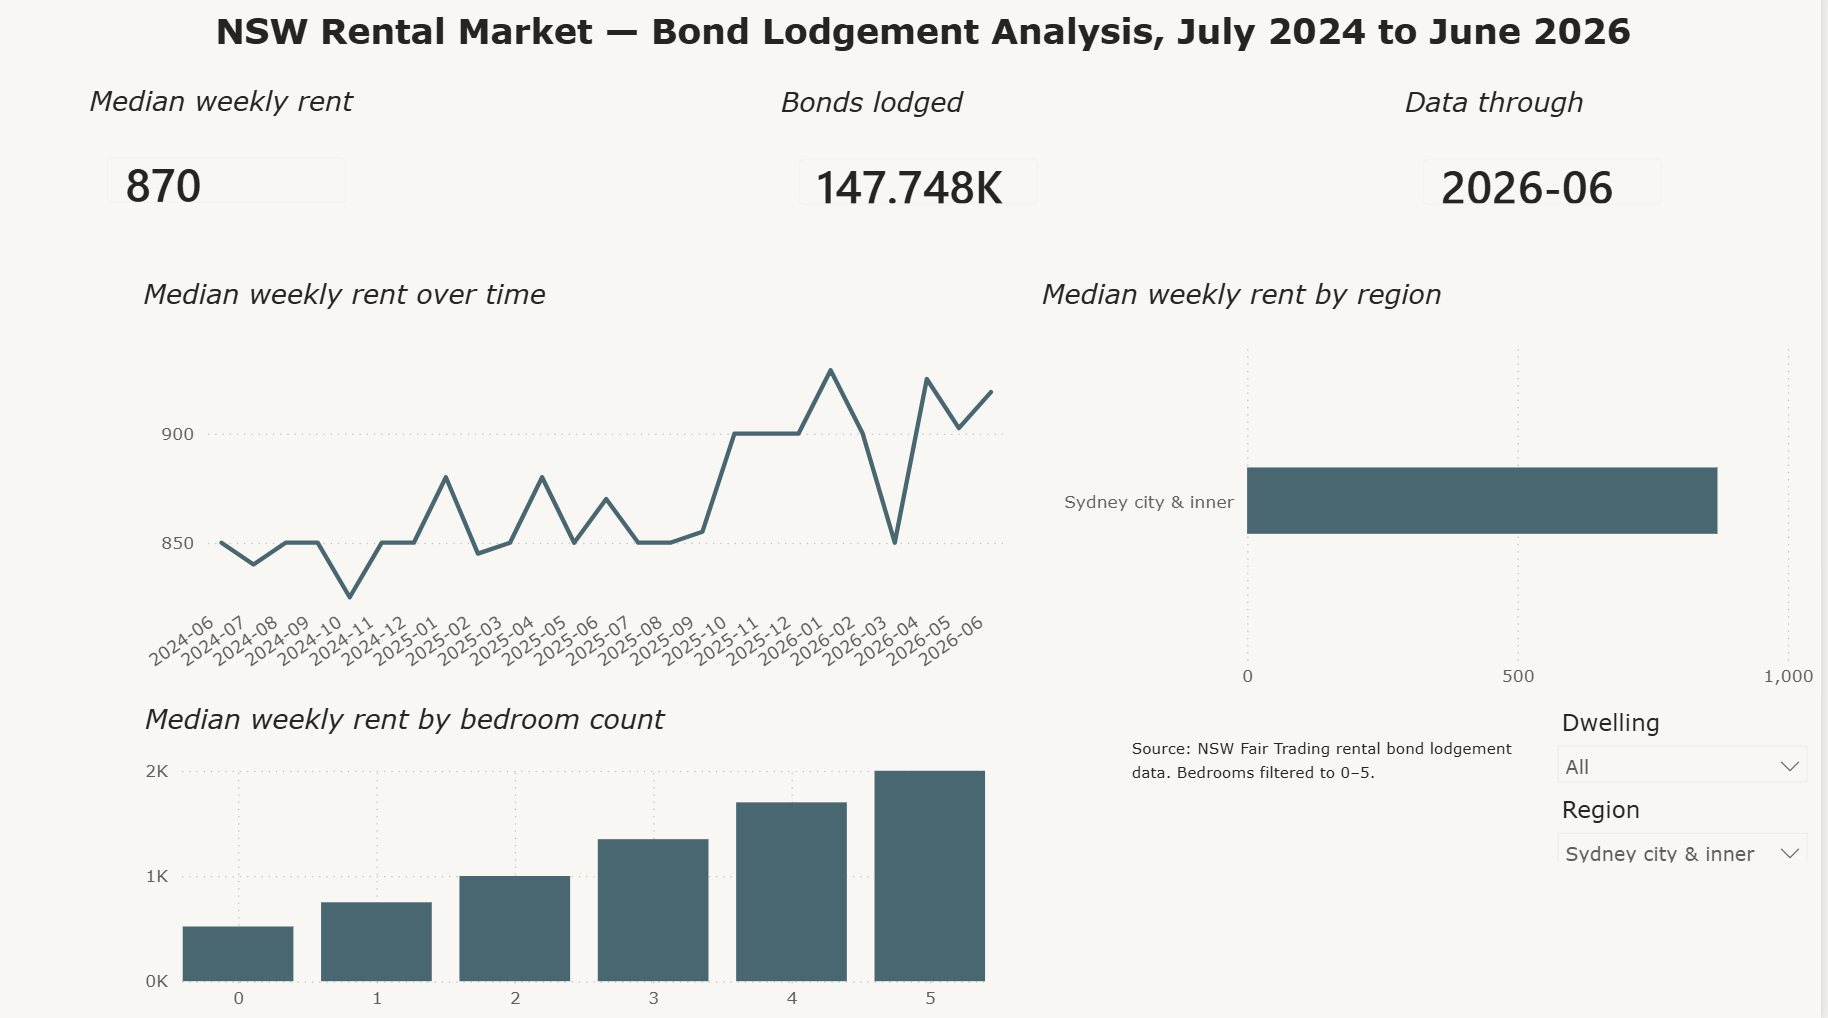

The page's visual inventory and layout, read from the dashboard file:
{"tool":"powerbi","page":{"name":"Page 1","canvas":[1280,720],"ordinal":0},"visuals":[{"type":"lineChart","title":"Median weekly rent over time","fields":{"Y":["Median(Data.Weekly Rent)"],"Category":["Data.Month"]},"box":[112.4,202.8,606,293.2],"z":0},{"type":"clusteredBarChart","title":"Median weekly rent by region","fields":{"Category":["Data.Region"],"Y":["Median(Data.Weekly Rent)"]},"box":[734.9,202.7,544.7,293.1],"z":1000},{"type":"cardVisual","title":"Median weekly rent","fields":{"Data":["Median(Data.Weekly Rent)"]},"box":[75,69,200.5,100],"z":2000},{"type":"cardVisual","title":"Bonds lodged","fields":{"Data":["CountNonNull(Data.Weekly Rent)"]},"box":[553.9,69.5,200,100],"z":3000},{"type":"cardVisual","title":"Data through","fields":{"Data":["Max(Data.Month)"]},"box":[986.1,69.5,200,100],"z":4000},{"type":"clusteredColumnChart","title":"Median weekly rent by bedroom count","fields":{"Category":["Data.Bedrooms"],"Y":["Median(Data.Weekly Rent)"]},"box":[113.6,497.1,592.1,222.5],"z":5000},{"type":"slicer","fields":{"Values":["Data.Region"]},"box":[1086.9,556.2,193.5,52.1],"z":6000},{"type":"slicer","fields":{"Values":["Data.Dwelling"]},"box":[1086.9,495.9,193.5,60.3],"z":7000},{"type":"textbox","box":[162.2,11.4,1093.5,57.2],"z":8000},{"type":"textbox","box":[797.3,514.5,290,59.3],"z":8001}]}

Visuals, with their boxes in screenshot pixels (x1, y1, x2, y2), scaled from the page's 1280x720 canvas onto the 1828x1018 screenshot:
"Median weekly rent over time" lineChart: (left=161, top=287, right=1026, bottom=701)
"Median weekly rent by region" clusteredBarChart: (left=1050, top=287, right=1827, bottom=701)
"Median weekly rent" cardVisual: (left=107, top=98, right=393, bottom=239)
"Bonds lodged" cardVisual: (left=791, top=98, right=1077, bottom=240)
"Data through" cardVisual: (left=1408, top=98, right=1694, bottom=240)
"Median weekly rent by bedroom count" clusteredColumnChart: (left=162, top=703, right=1008, bottom=1017)
slicer - Data.Region: (left=1552, top=786, right=1827, bottom=860)
slicer - Data.Dwelling: (left=1552, top=701, right=1827, bottom=786)
textbox: (left=232, top=16, right=1793, bottom=97)
textbox: (left=1139, top=727, right=1553, bottom=811)
